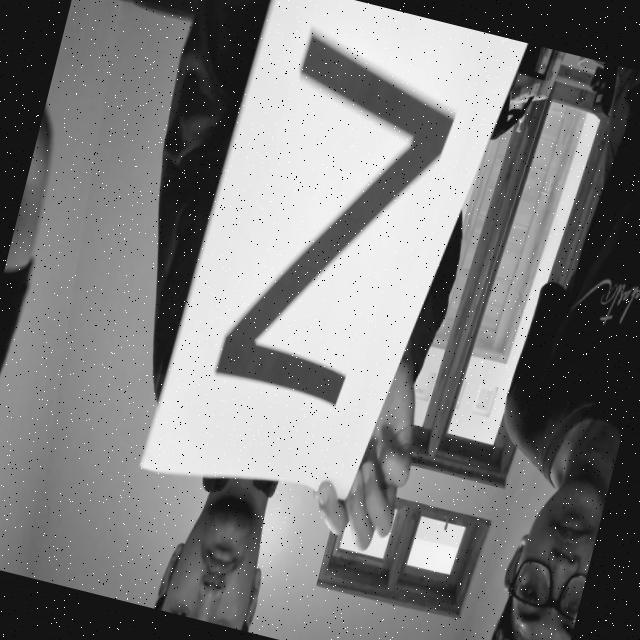z: (203, 8, 475, 436)
